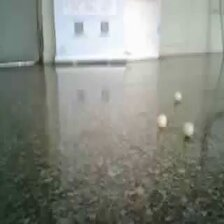tennis: (98, 106, 120, 136), (17, 79, 38, 106), (141, 71, 156, 93)
